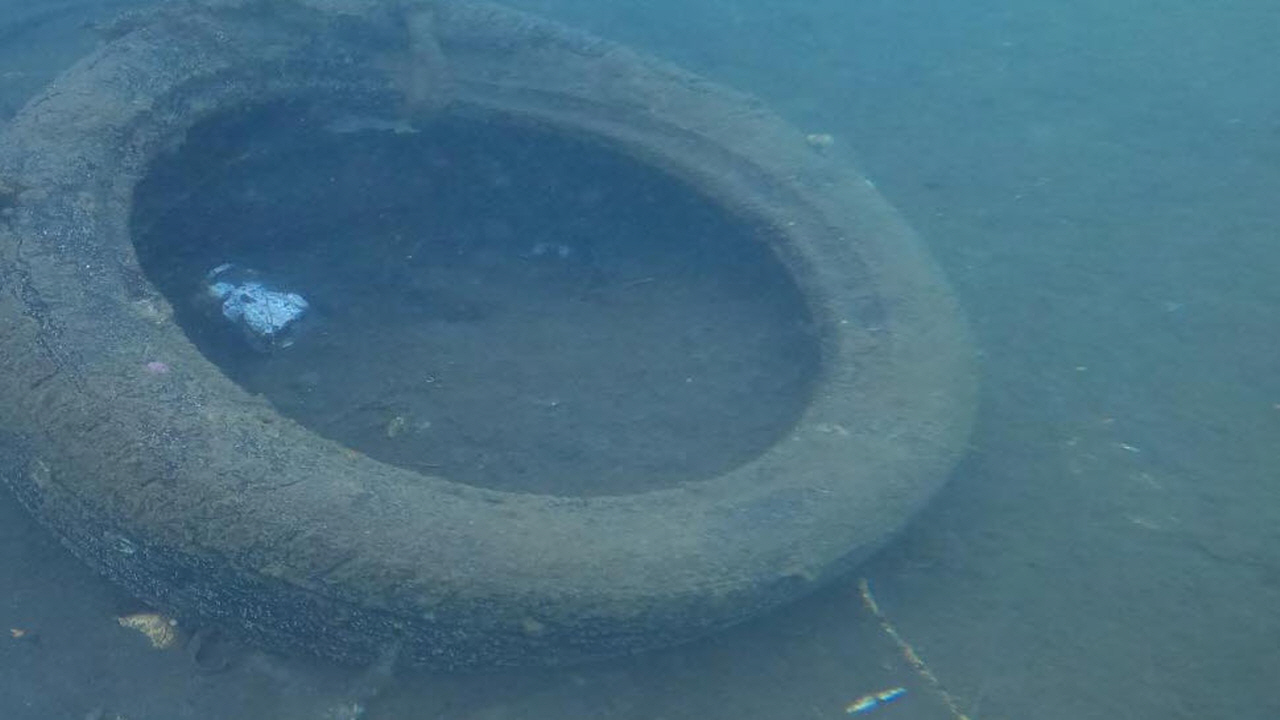tire: (0, 6, 979, 668)
